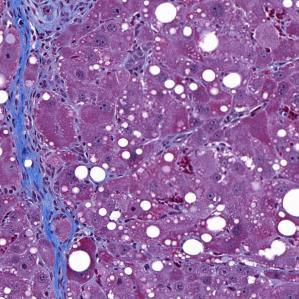fibrosis: (8, 98, 63, 212), (6, 3, 78, 49)
